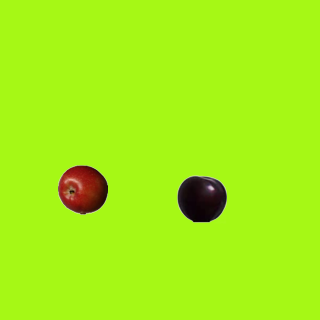Apple Braeburn: (57, 164, 107, 214)
Cherry Wax Black: (176, 173, 226, 223)
